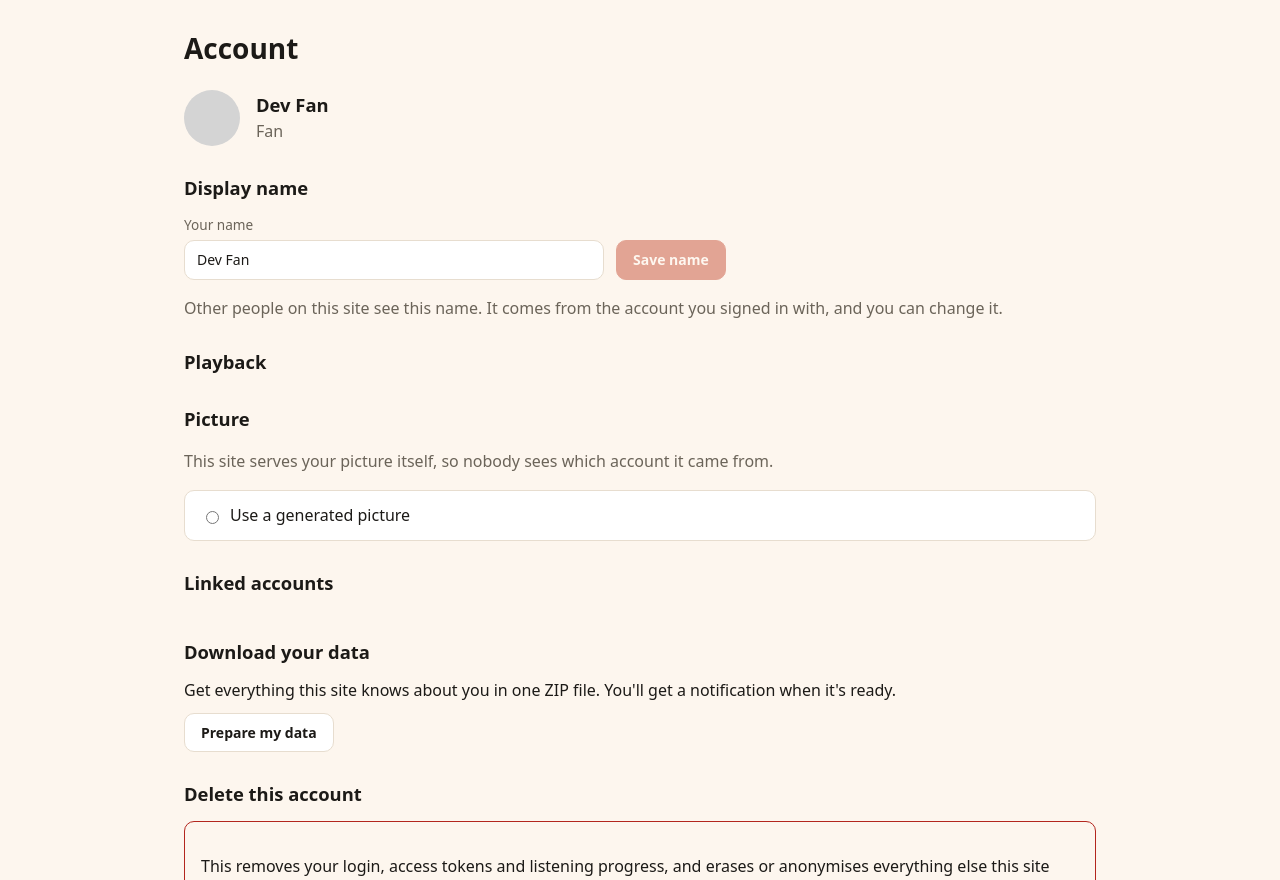
Test: AccountPage display name (ARCHITECTURE §8.6) › translates the display-name-locked refusal from the problem type
Replace the text in the field labelled "Your name" with "Something Else" at (394, 260), box [184,240,604,280]
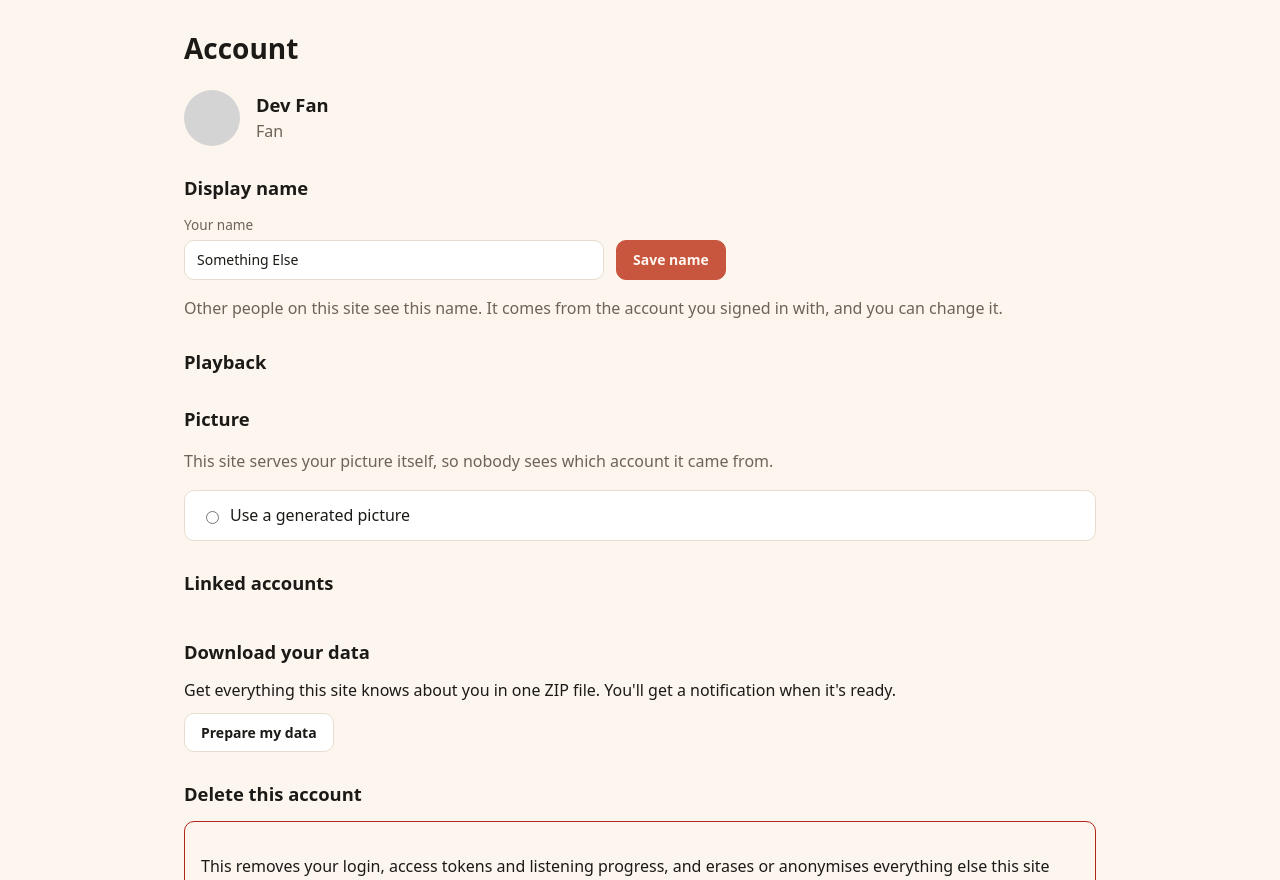
Click the button "Save name" at (671, 260), box [616,240,726,280]
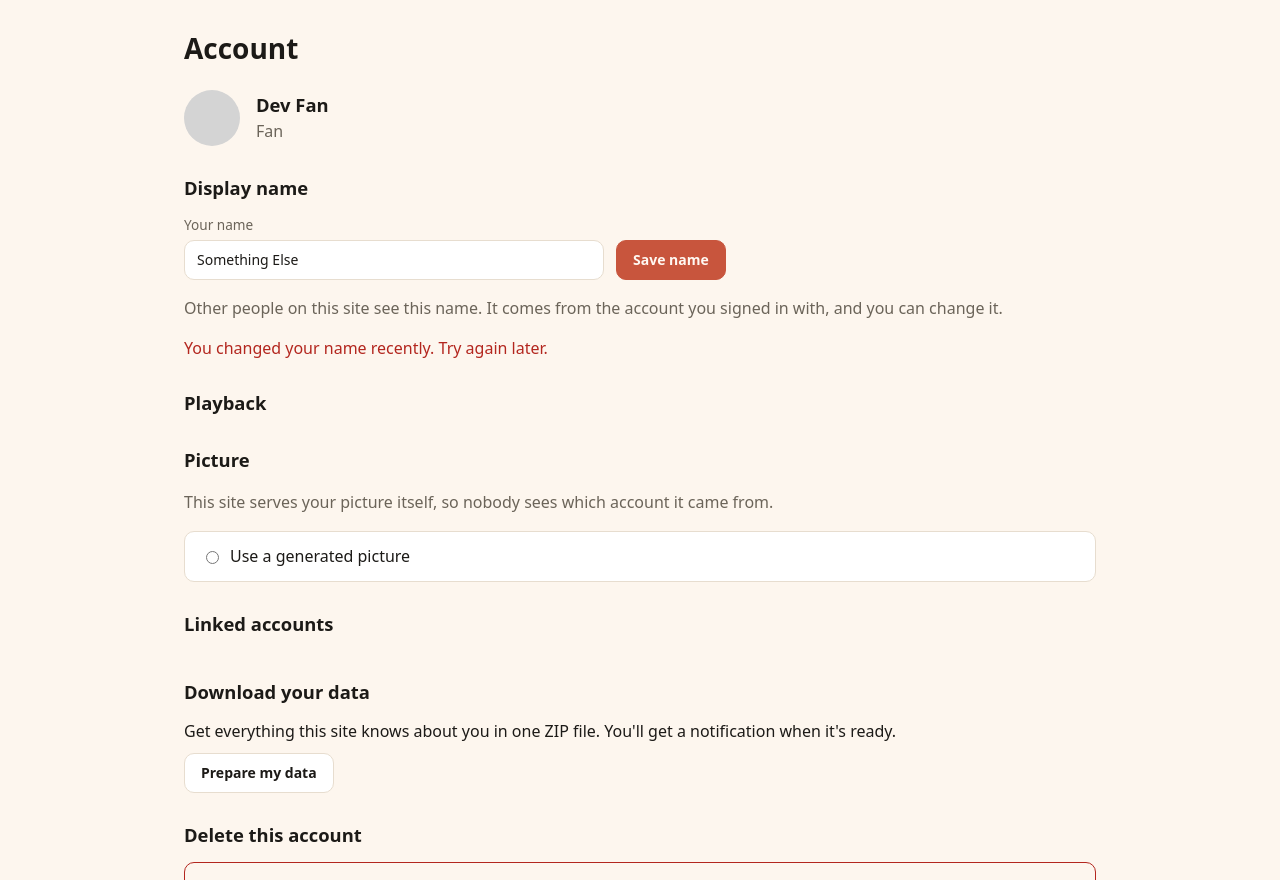
Expected: the text "You changed your name recently. Try again later." is shown, [184,338,548,360]
